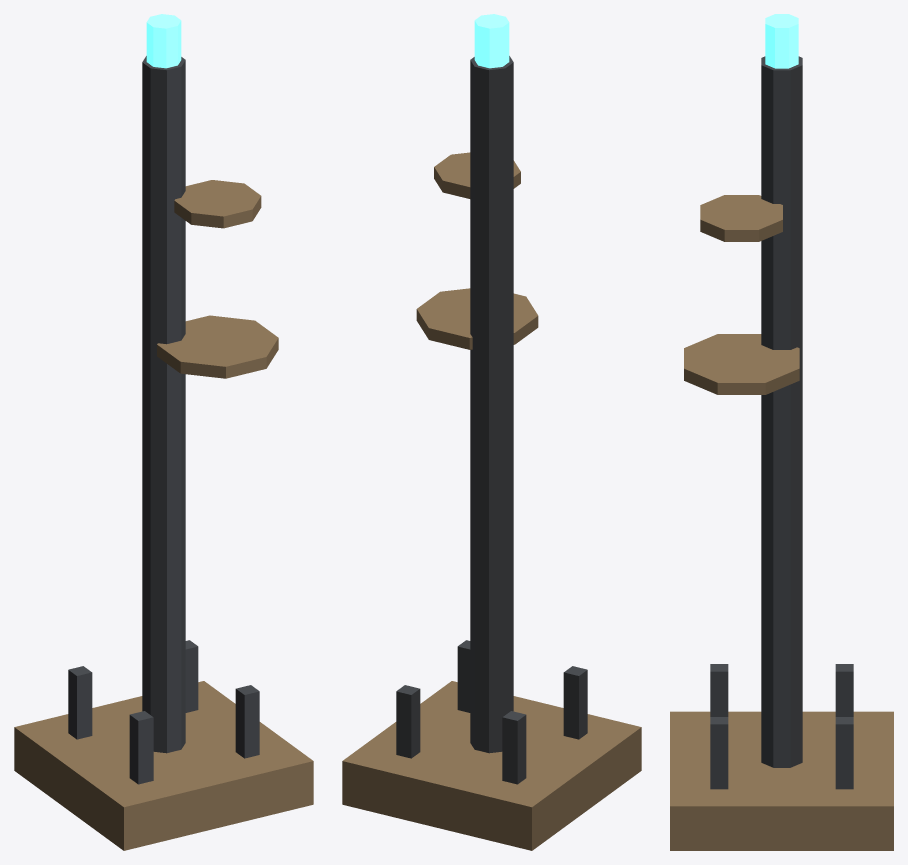
The model's file is shaddai_dist_ocean_b3_v01.glb.
3 renders of one model, left to right at view 1: azimuth 30°, elevation 25°; view 2: azimuth 150°, elevation 25°; view 3: azimuth 270°, elevation 25°, orthographic. The views are drawn at different scales.
Parts seen in each view (by area): view 1: shaddai_dist_ocean_b3; view 2: shaddai_dist_ocean_b3; view 3: shaddai_dist_ocean_b3.
Part boxes in pixels (<box>): shaddai_dist_ocean_b3: <box>14,14,313,850</box>; shaddai_dist_ocean_b3: <box>342,14,641,850</box>; shaddai_dist_ocean_b3: <box>670,14,893,850</box>.
Bounding box in the file's own units: 5 × 19.3 × 5.
